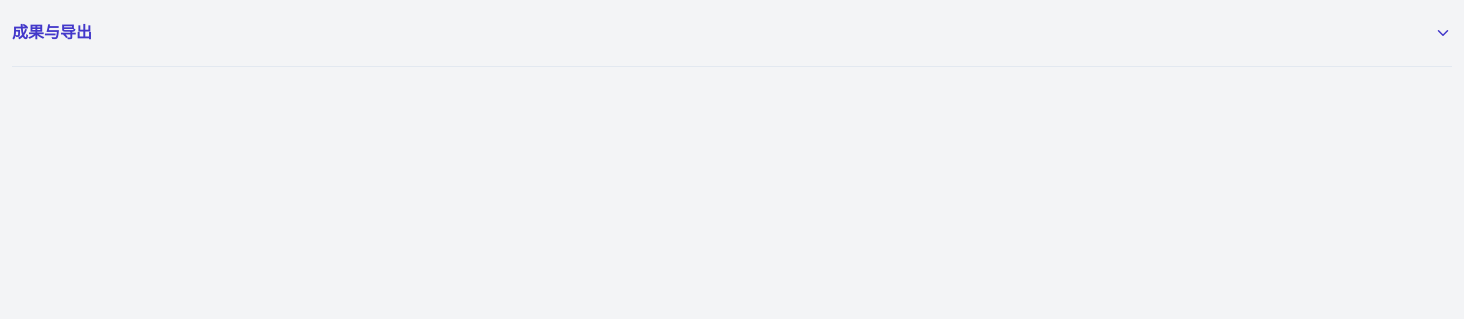
Test: loads lazily and retrieves server history when returning to the class
Later steps or results of the test are not shown.
Click the button "成果与导出" at x=52, y=32, box x1=12 y1=12 x2=1452 y2=54
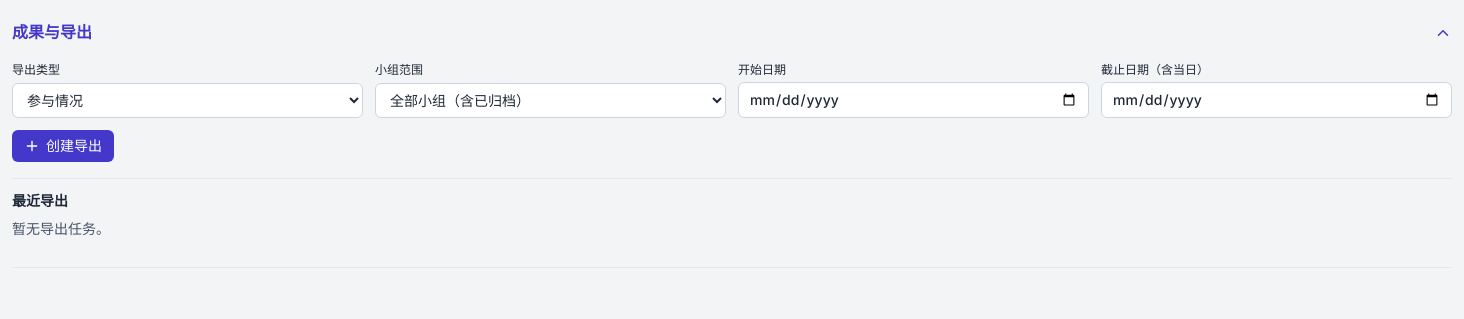
expect the text "暂无导出任务。" is shown: met, box x1=12 y1=220 x2=110 y2=237
Click the button "创建导出" at x=63, y=146, box x1=12 y1=130 x2=114 y2=162
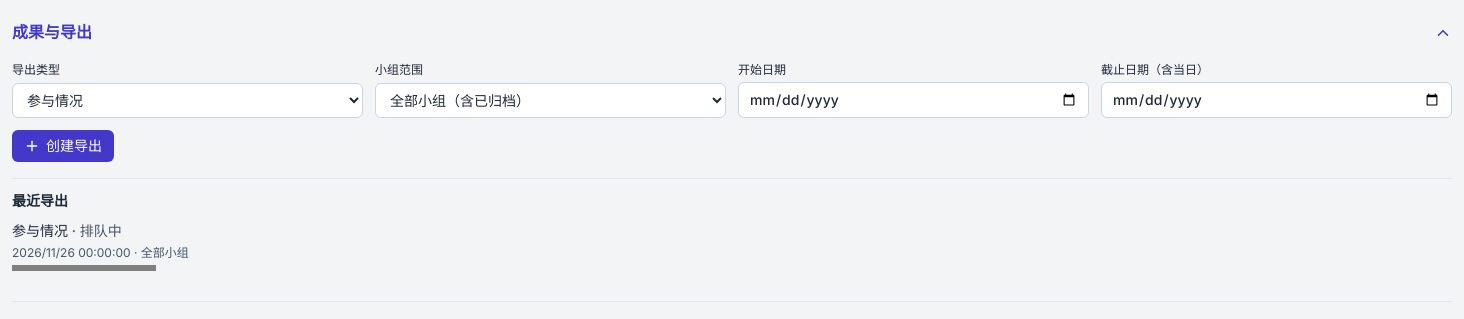
expect the text "· 排队中" is shown: met, box x1=72 y1=222 x2=122 y2=239
